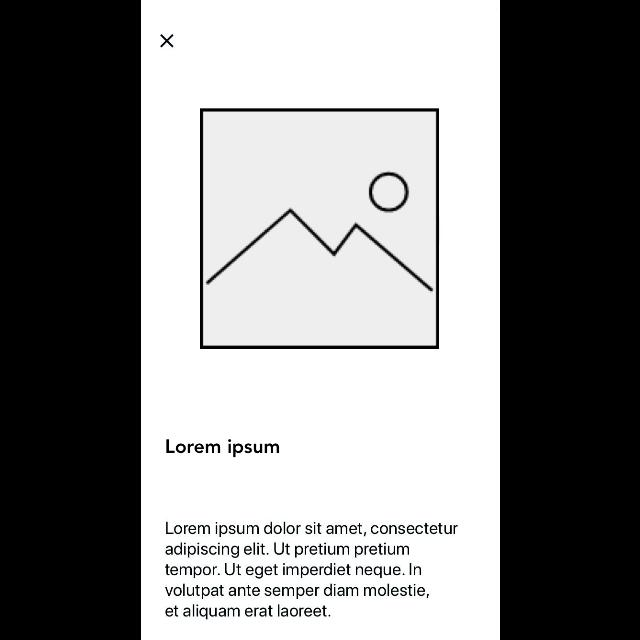icon: (159, 34, 173, 48)
image: (199, 109, 439, 349)
text: (164, 521, 458, 619), (165, 438, 279, 458)
